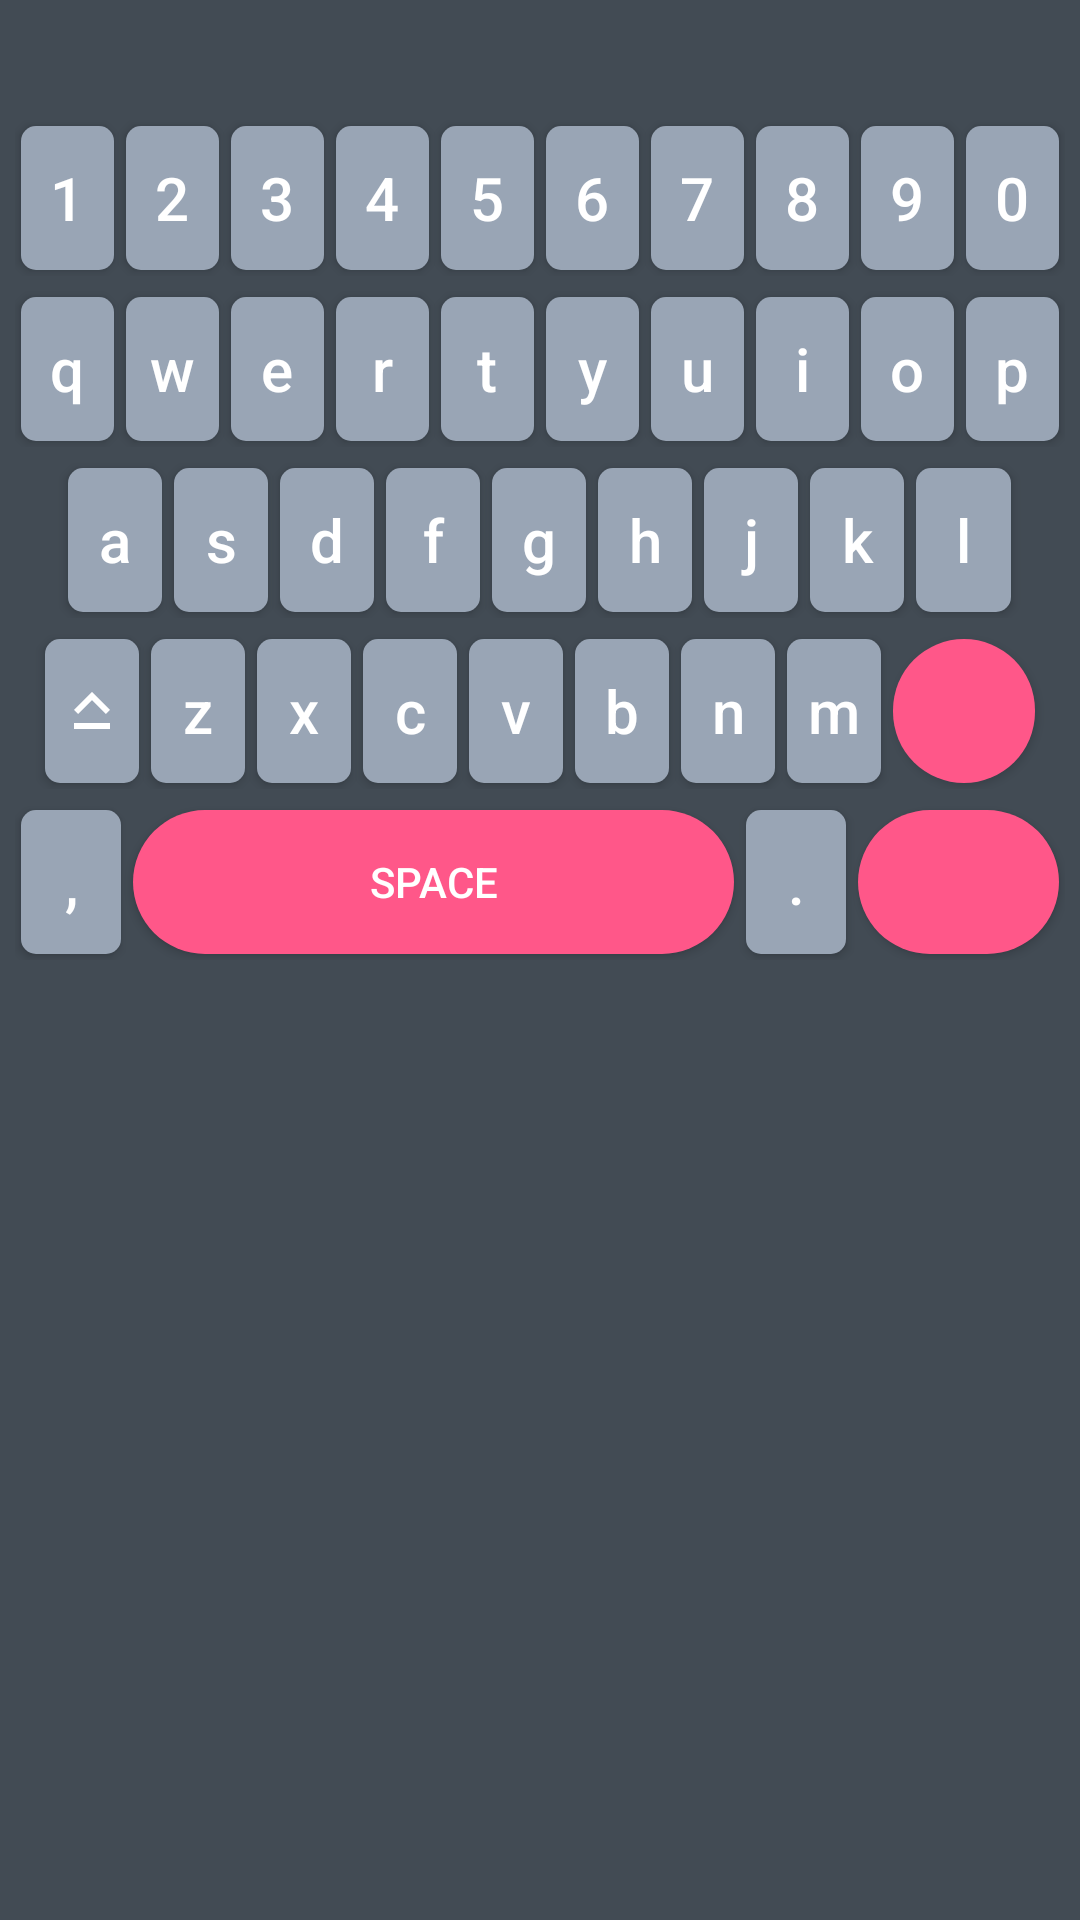

Where icons sit on this 1080x1920 app screen, as (left=x1, top=y1, right=x2, bottom=y2):
capitalize: (left=45, top=639, right=139, bottom=783)
